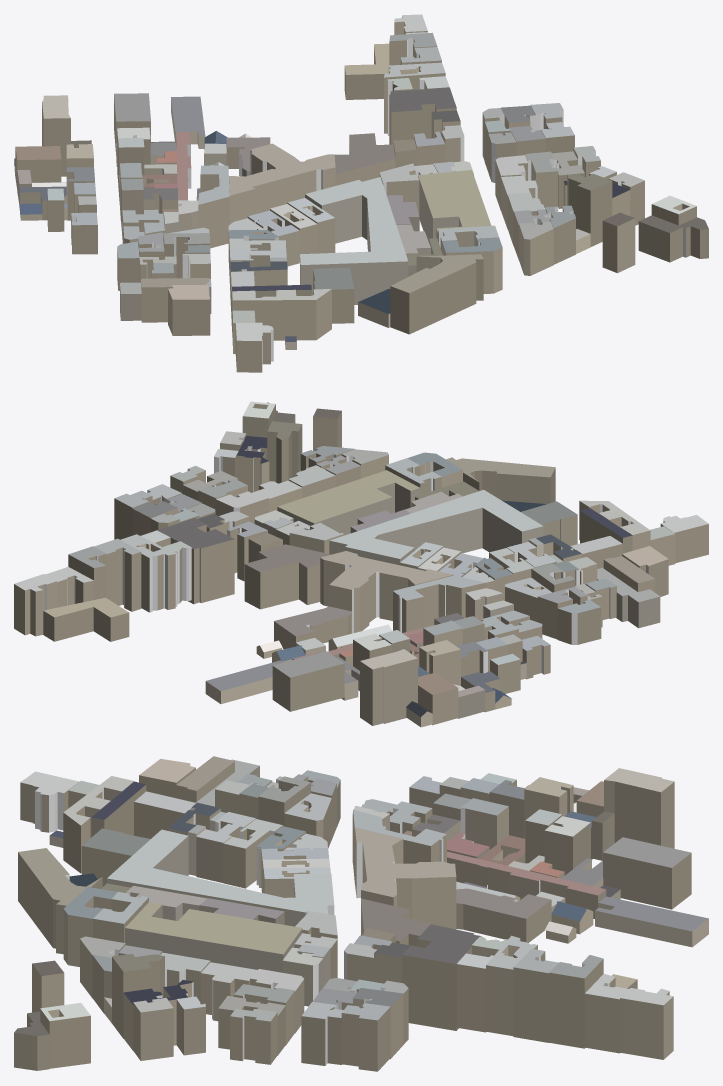
The picture shows the model from 3 angles, top to bottom: view 1: azimuth 30°, elevation 25°; view 2: azimuth 150°, elevation 25°; view 3: azimuth 270°, elevation 25°; orthographic projection. The views are drawn at different scales.
Visible parts, largest first — view 1: tuile; view 2: tuile; view 3: tuile.
Part boxes in pixels (x1,y1,x2,y2): tuile: [14, 14, 708, 372]; tuile: [14, 401, 708, 727]; tuile: [14, 756, 708, 1071].
Bounding box in the file's own units: 278 × 35.76 × 281.
